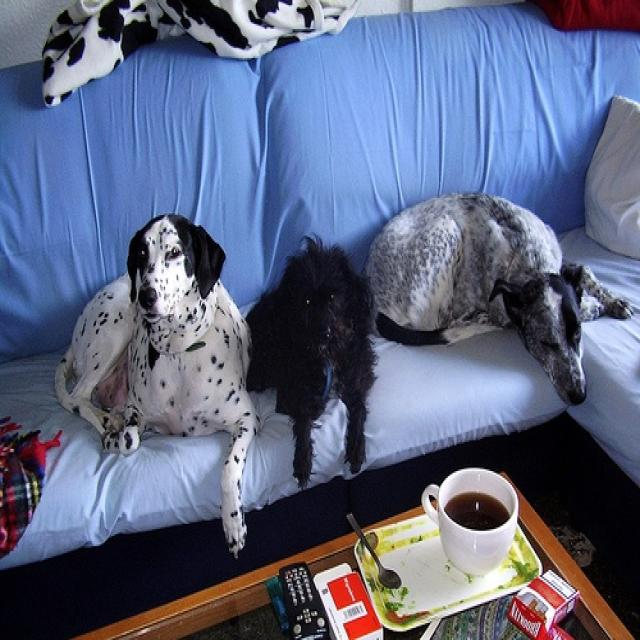dog: (52, 212, 258, 562), (361, 191, 634, 410), (248, 230, 376, 490)
sofa: (0, 2, 639, 573)
